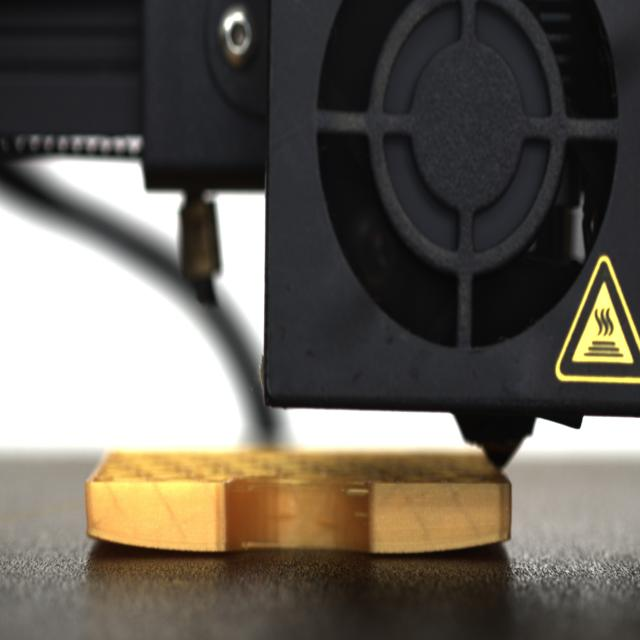Warping: (435, 527, 512, 560), (83, 524, 154, 557)
